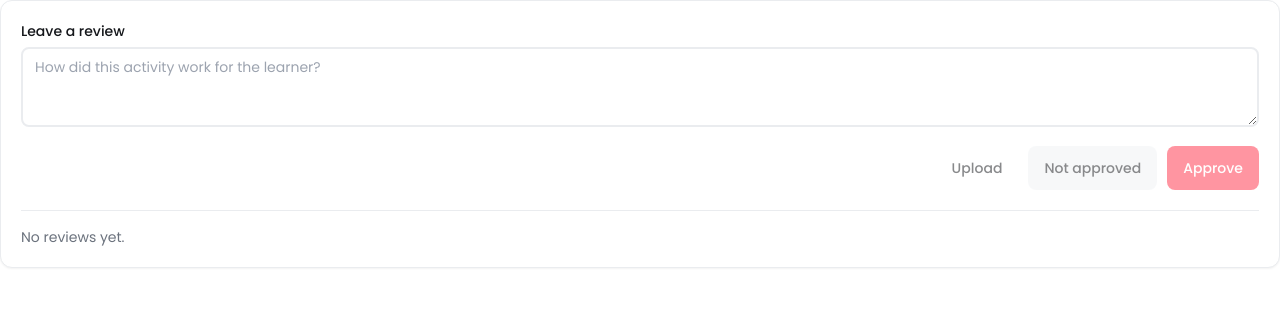
Test case: IT-4.6: a submitted review crosses the real frontend API boundary
The image size is (1280, 331).
Type "Useful activity." into the text box labelled "Leave a review" at (640, 87), box x1=21 y1=47 x2=1259 y2=127
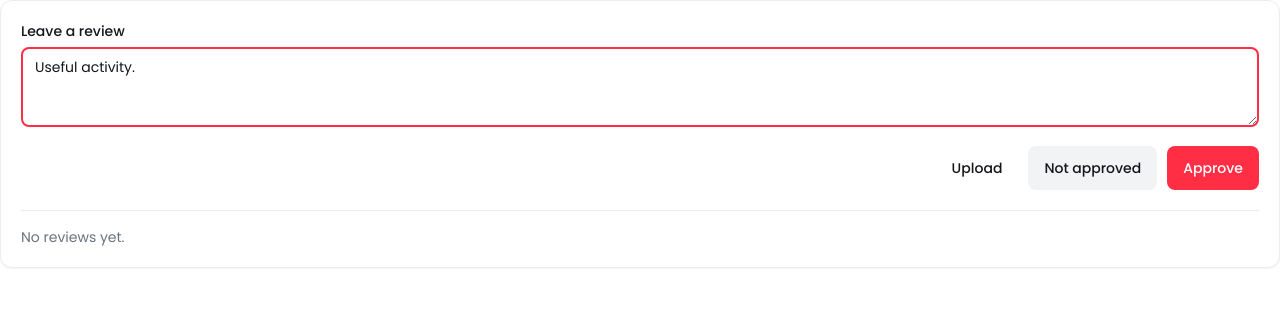
Click the button "Upload" at (977, 168), box x1=936 y1=146 x2=1018 y2=190
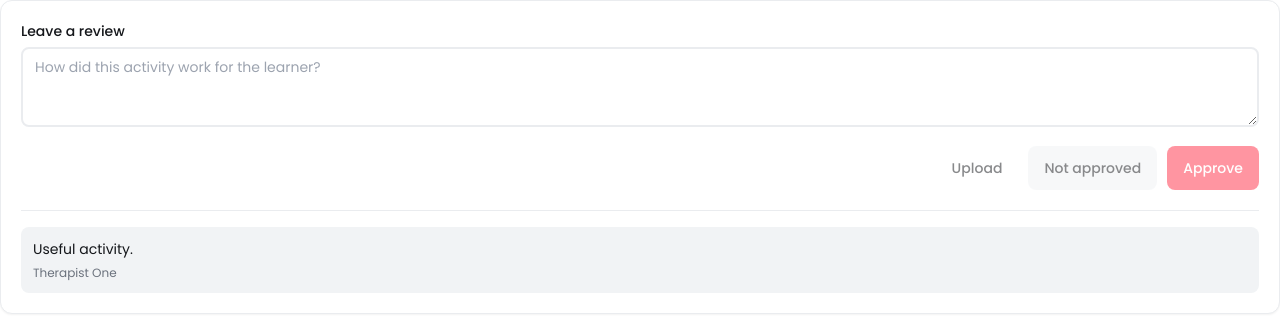
Now the text "Useful activity." is shown, box x1=33 y1=239 x2=133 y2=259
Now the text "Therapist One" is shown, box x1=33 y1=264 x2=117 y2=281
